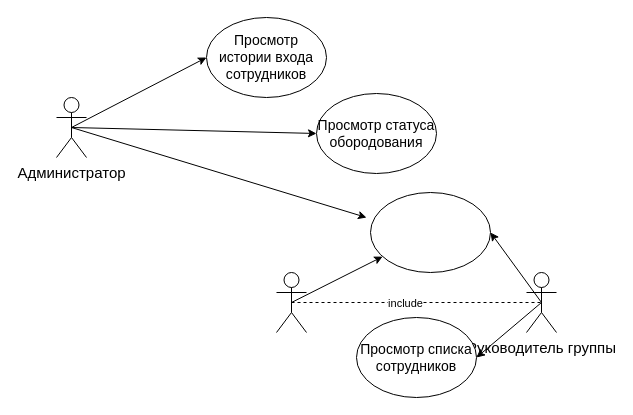
Image size: 633x415. Some labels were removed from this diagram. The shapes that lost their labels are listed below. From the top down, each one's centre as x and y in pixels, then its label:
(x=430, y=232): Просмотр списка оборудования
(x=291, y=302): Сотрудник
